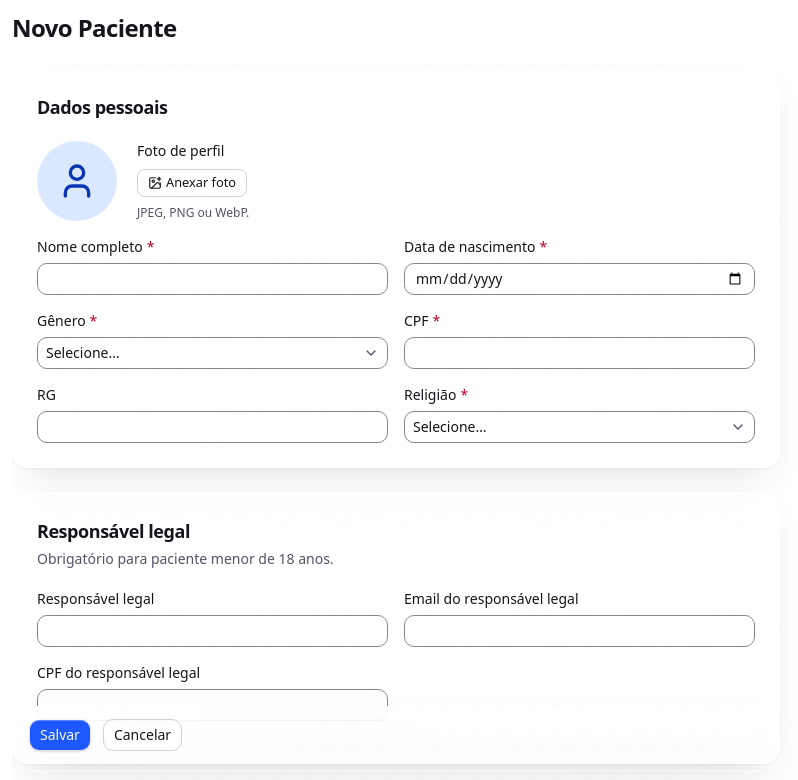
Test case: CPF ganha a máscara a cada dígito digitado, nos dois campos de CPF
In the field labelled "CPF": (580, 353) [404,337,755,369], type "529"
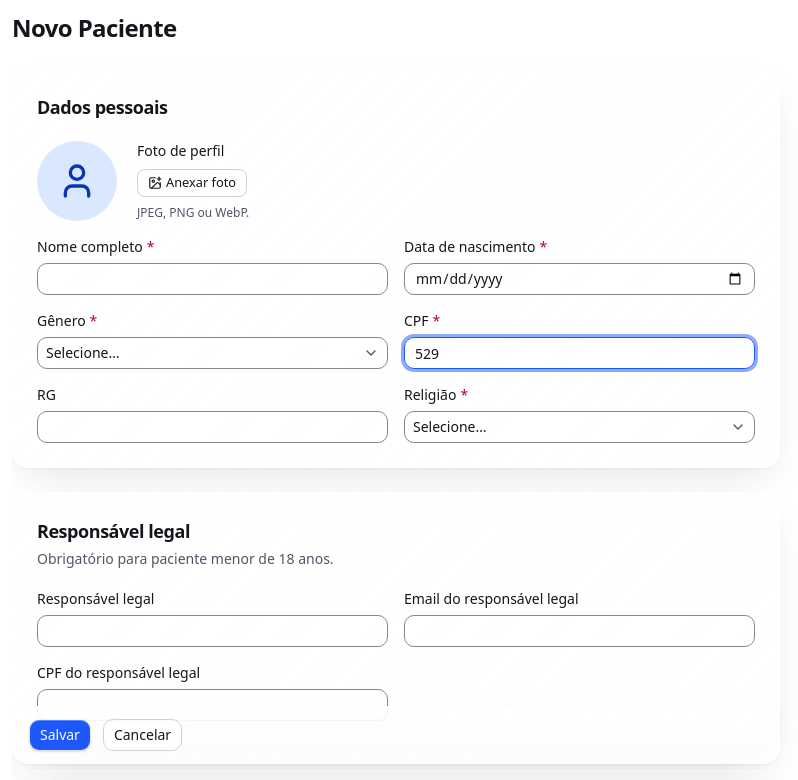
In the field labelled "CPF": (580, 353) [404,337,755,369], type "9"
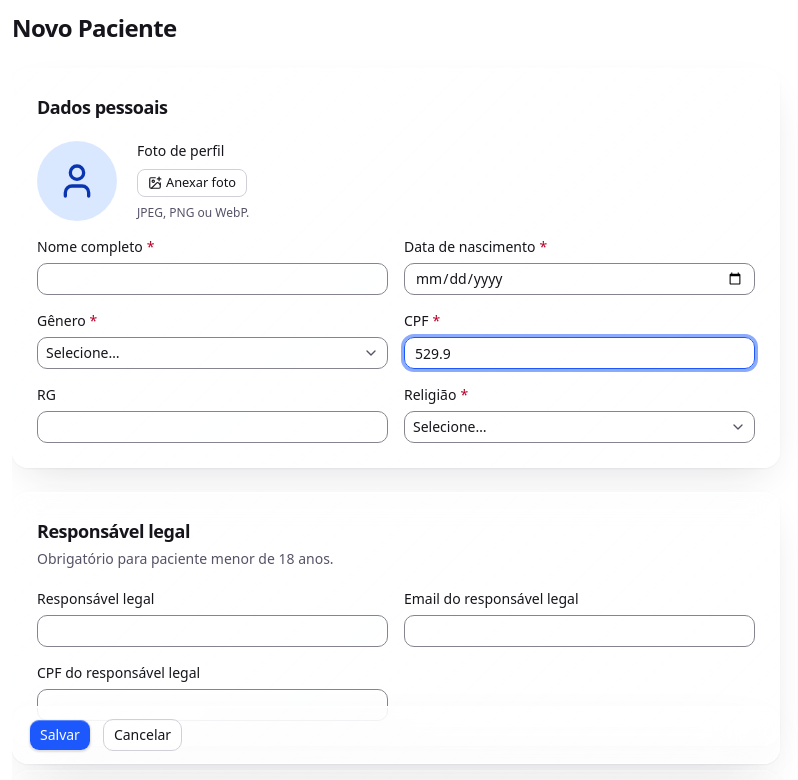
Now the field labelled "CPF" holds "529.9"
In the field labelled "CPF": (580, 353) [404,337,755,369], type "82247"
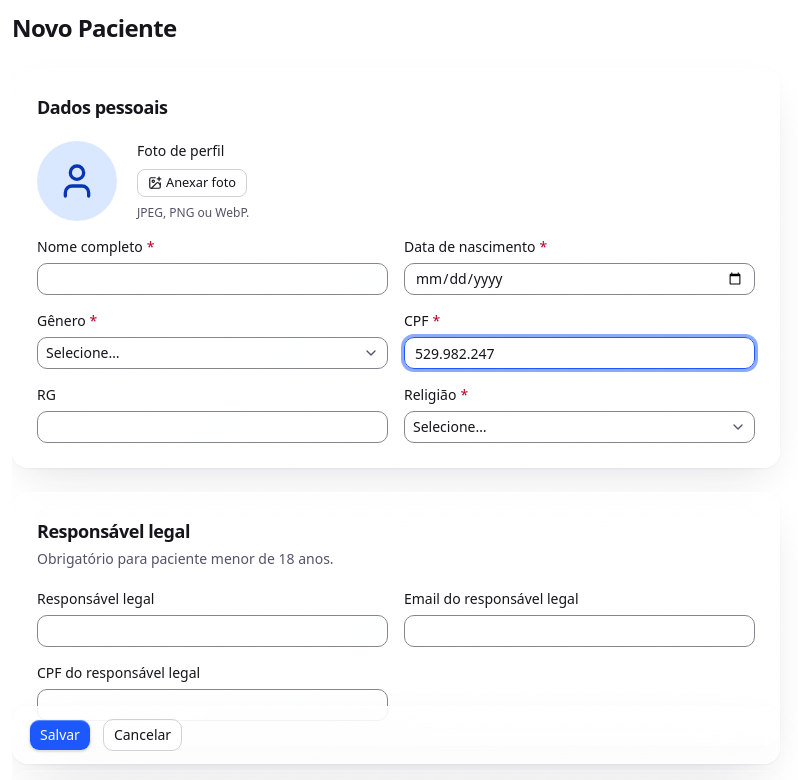
Now the field labelled "CPF" holds "529.982.247"
Depois do 11º dígito a máscara está completa e o resto é ignorado.
In the field labelled "CPF": (580, 353) [404,337,755,369], type "25999"
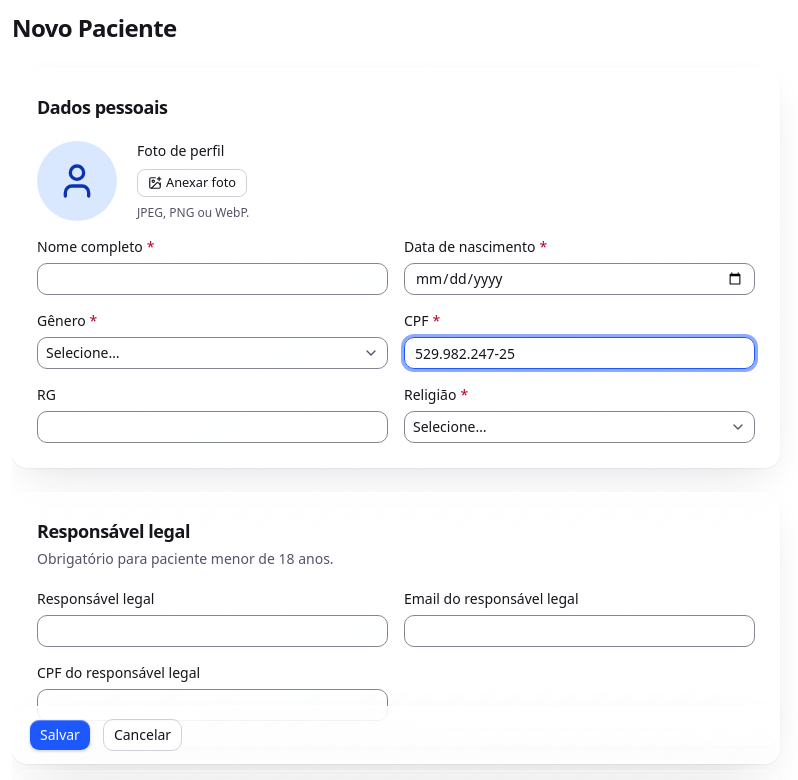
Now the field labelled "CPF" holds "529.982.247-25", box [404,337,755,369]
In the field labelled "CPF do responsável legal": (212, 705) [37,689,388,721], type "12345678909"
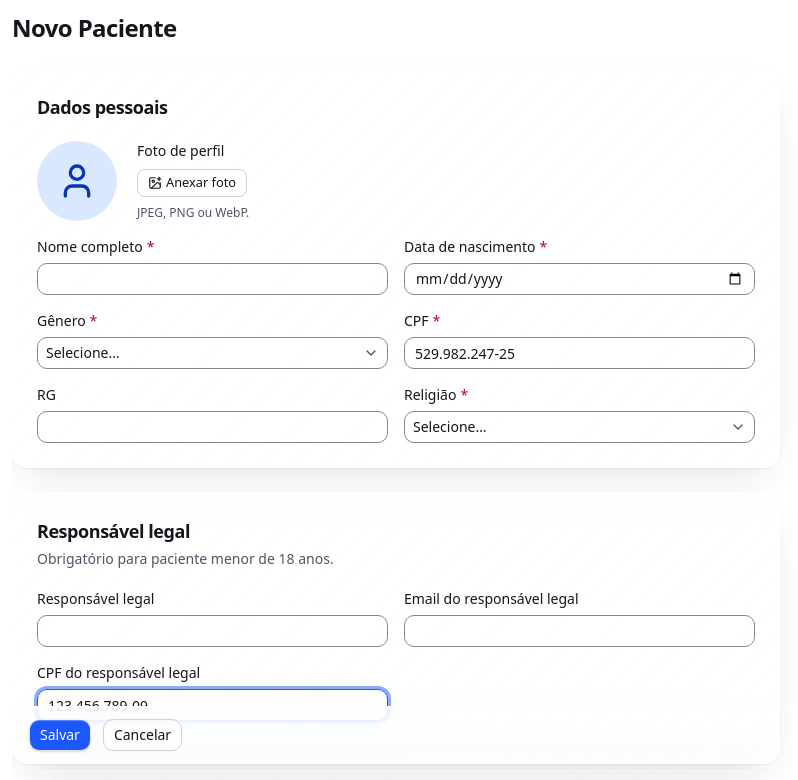
Now the field labelled "CPF do responsável legal" holds "123.456.789-09", box [37,689,388,721]
